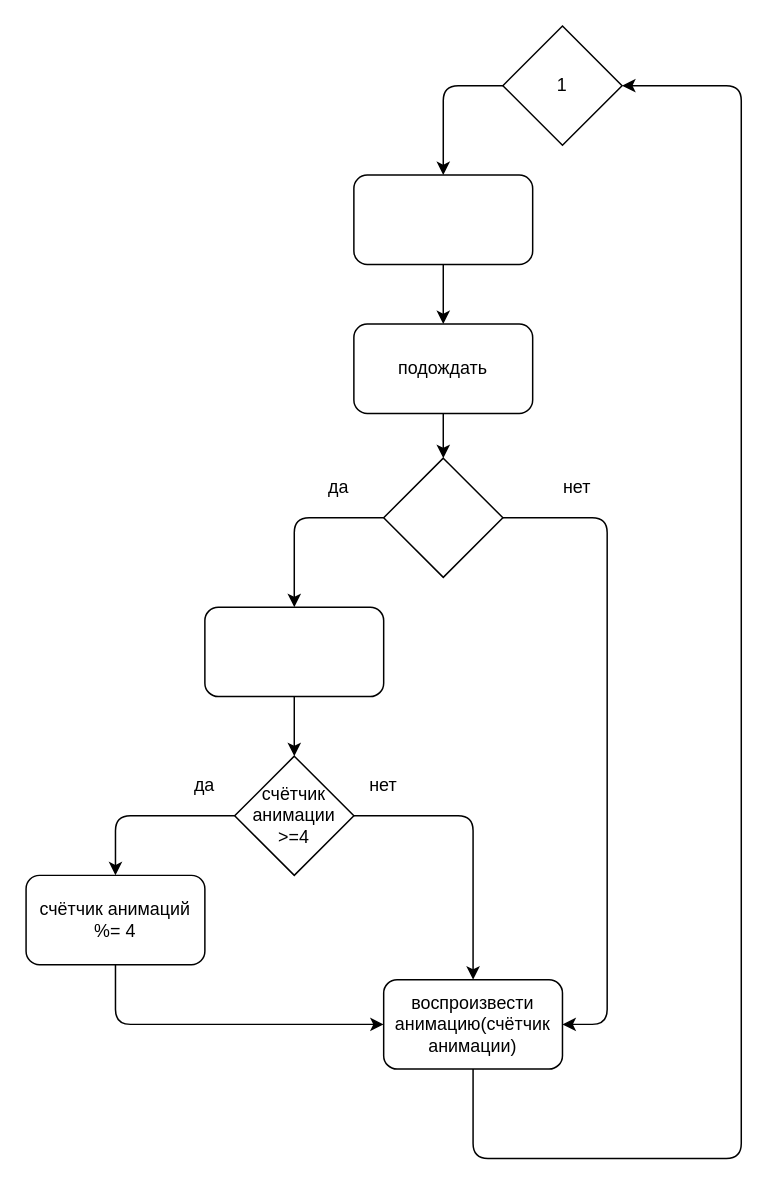
Some shapes in this 779 by 1196 pixel diagram are drawn without their labels. The box of each missing label's shape, as (x1, y1, x2, y2) in pixels:
новое состояние кнопки == прошлое состояние кнопки: (382, 457, 503, 577)
получить состояние кнопки: (352, 174, 533, 264)
счётчик анимации +=1: (203, 606, 384, 697)
